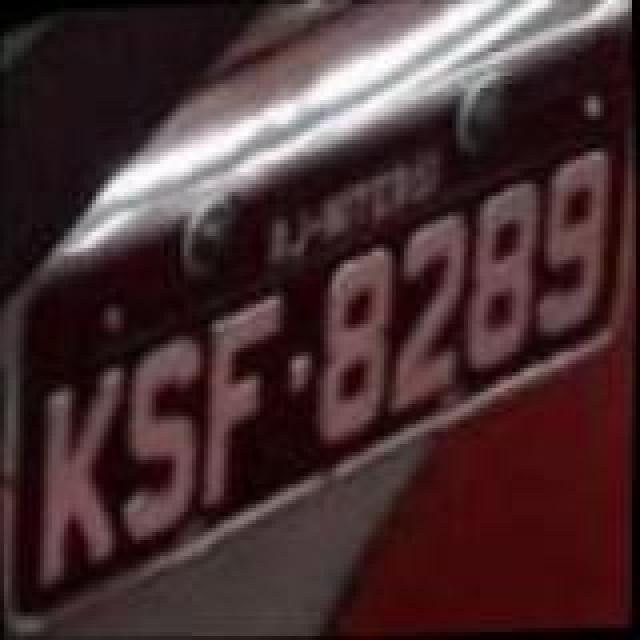2: (380, 208, 476, 420)
8: (308, 240, 404, 448), (452, 176, 544, 376)
9: (524, 146, 620, 342)
F: (188, 290, 288, 510)
K: (28, 364, 132, 588)
S: (108, 334, 208, 550)
